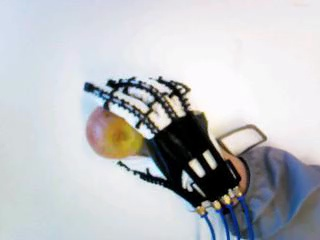apple: (86, 105, 142, 159)
hand: (80, 77, 239, 216)
